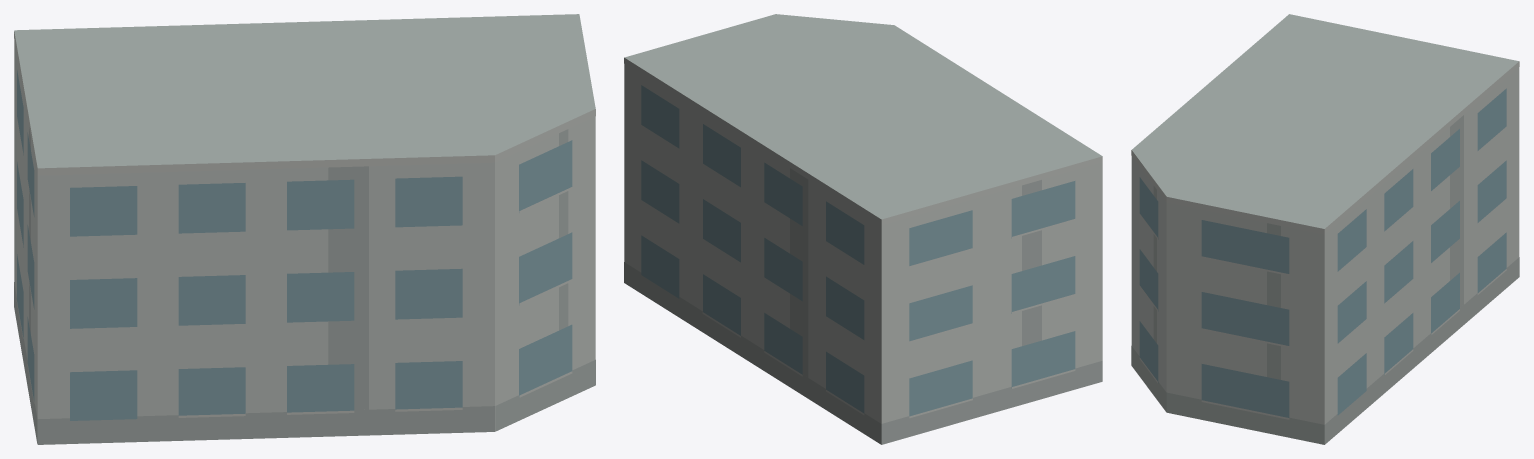
Rendered from residential-2d34b155-bb97-4a14-9a51-1c11ba869c88.glb.
3 renders of one model, left to right at view 1: azimuth 30°, elevation 25°; view 2: azimuth 150°, elevation 25°; view 3: azimuth 270°, elevation 25°, orthographic. The views are drawn at different scales.
Visible parts, largest first — view 1: residential-2d34b155-bb97-4a14-9a51-1c11ba869c88.tmp; view 2: residential-2d34b155-bb97-4a14-9a51-1c11ba869c88.tmp; view 3: residential-2d34b155-bb97-4a14-9a51-1c11ba869c88.tmp.
Boxes of the visible parts, x1=… form: residential-2d34b155-bb97-4a14-9a51-1c11ba869c88.tmp: x1=14, y1=14, x2=595, y2=444; residential-2d34b155-bb97-4a14-9a51-1c11ba869c88.tmp: x1=624, y1=14, x2=1102, y2=444; residential-2d34b155-bb97-4a14-9a51-1c11ba869c88.tmp: x1=1131, y1=14, x2=1519, y2=444.
Bounding box in the file's own units: 19.23 × 9 × 14.66.
